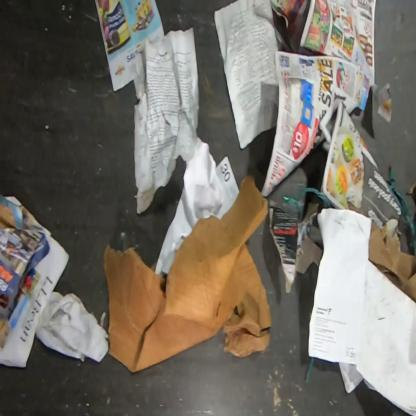cardboard: (104, 174, 272, 373), (269, 200, 323, 294)
